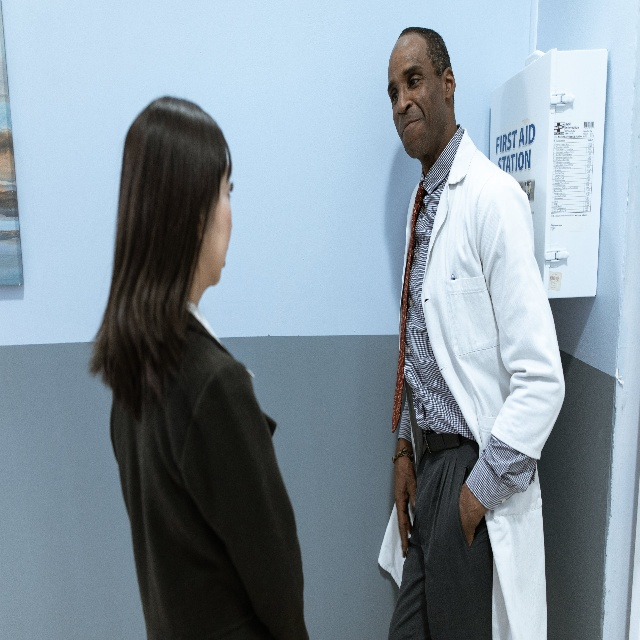Sin_guantes: (393, 466, 417, 557)
